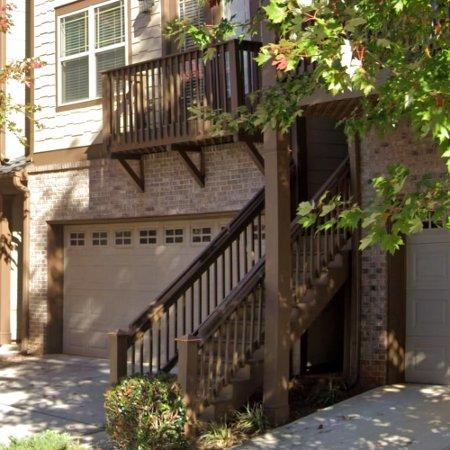stairs: (178, 258, 264, 421), (290, 225, 352, 345)
